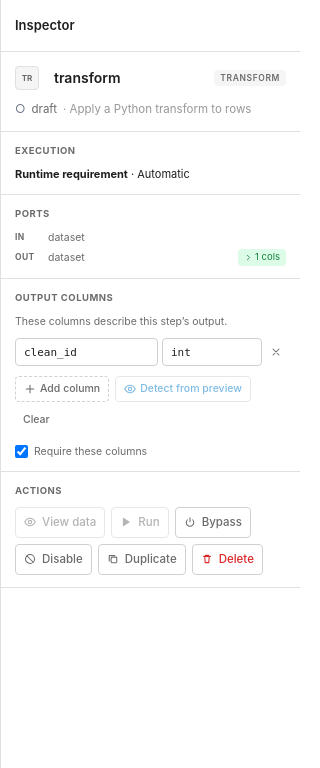
Test: Inspector — output columns › turns off required-column enforcement when the last output column is cleared
Click the button "Clear" at [36, 420], box [15,408,58,432]
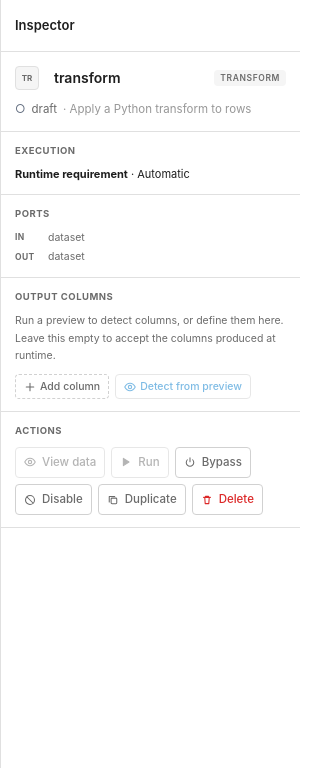
Check: the text "Require these columns" is gone
